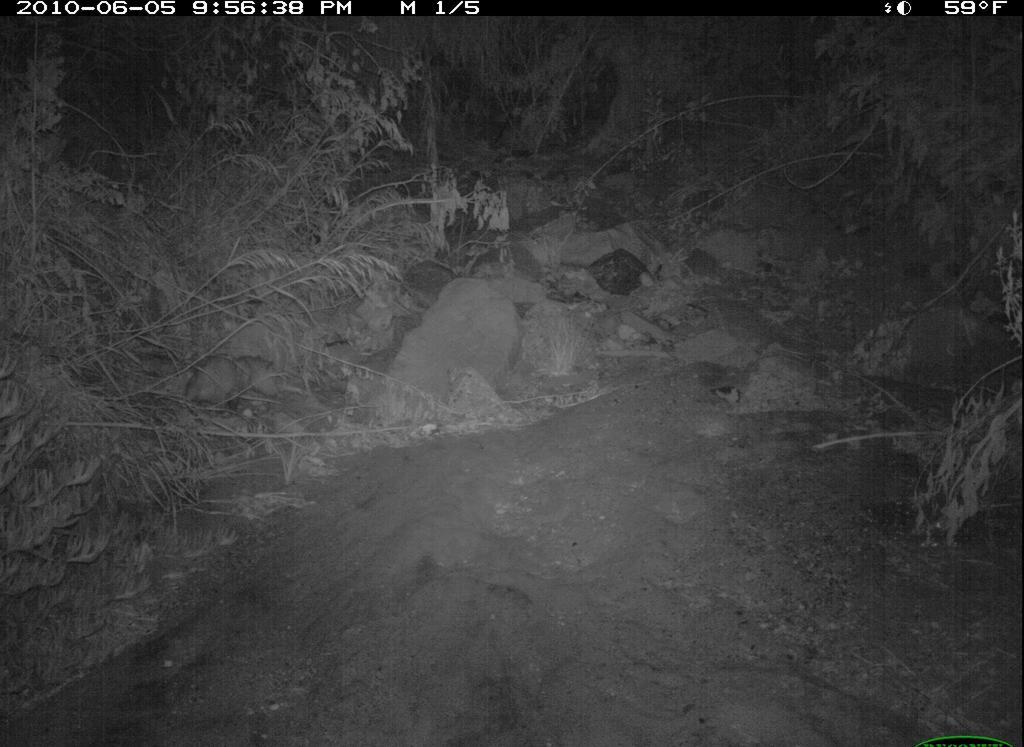opossum: (155, 344, 299, 424)
